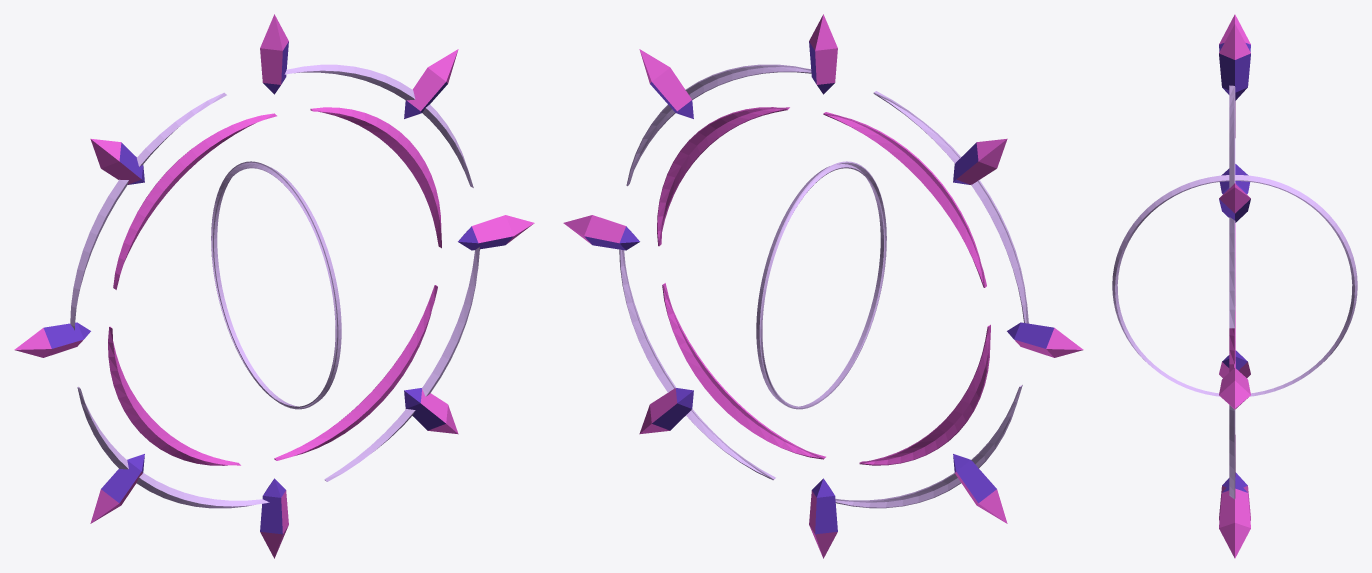
The model's file is VFX_48_CosmicoStellaDimensionale.fbx.
3 renders of one model, left to right at view 1: azimuth 30°, elevation 25°; view 2: azimuth 150°, elevation 25°; view 3: azimuth 270°, elevation 25°, orthographic. The views are drawn at different scales.
Parts seen in each view (by area): view 1: VFX_48_CosmicoStellaDimensionale; view 2: VFX_48_CosmicoStellaDimensionale; view 3: VFX_48_CosmicoStellaDimensionale.
Part boxes in pixels (x1,y1,x2,y2): VFX_48_CosmicoStellaDimensionale: [14, 14, 534, 558]; VFX_48_CosmicoStellaDimensionale: [563, 14, 1083, 558]; VFX_48_CosmicoStellaDimensionale: [1112, 14, 1357, 558].
Bounding box in the file's own units: 411 × 411 × 174.
Materials: 1 (1 with a texture image).
